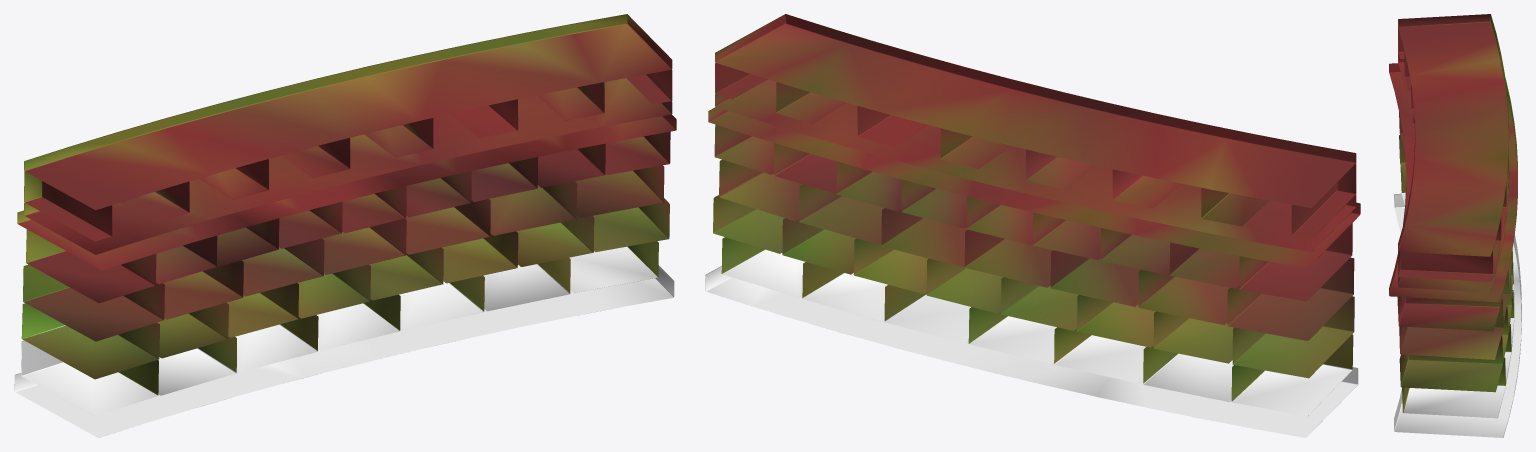
Rendered from wall-intact.glb.
The picture shows the model from 3 angles, left to right: view 1: azimuth 30°, elevation 25°; view 2: azimuth 150°, elevation 25°; view 3: azimuth 270°, elevation 25°; orthographic projection. The views are drawn at different scales.
Visible parts, largest first — view 1: wall-intact; view 2: wall-intact; view 3: wall-intact.
Boxes of the visible parts, x1,y1,x2,y2 form: wall-intact: (14,14,676,437); wall-intact: (705,14,1360,437); wall-intact: (1389,14,1521,437).
Bounding box in the file's own units: 9.11 × 3.39 × 2.16.
